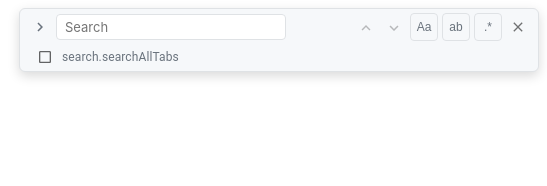
SearchReplacePanel › T-SR-12: toggling checkbox switches between single and cross-tab search
Type "hello" into the field with placeholder "Search" at [171, 27], box x1=56 y1=14 x2=286 y2=40
Wait 200 ms
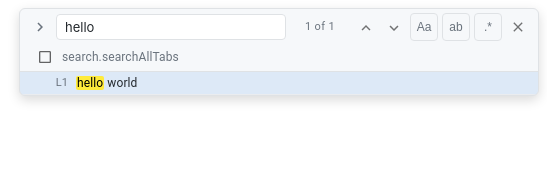
Expected: the text "file1.md" is not shown
Now the text "1 of 1" is shown, box x1=305 y1=20 x2=335 y2=33
# Enable cross-tab search
Click the checkbox at [103, 57], box x1=28 y1=45 x2=179 y2=69
Wait 200 ms
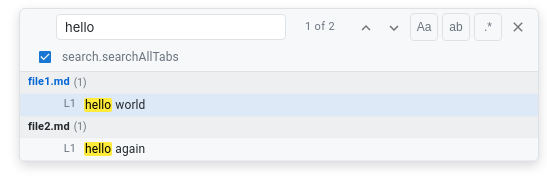
Now the text "1 of 2" is shown, box x1=305 y1=20 x2=335 y2=33
Now the text "file1.md" is shown, box x1=28 y1=74 x2=70 y2=90
Now the text "file2.md" is shown, box x1=28 y1=118 x2=70 y2=135
